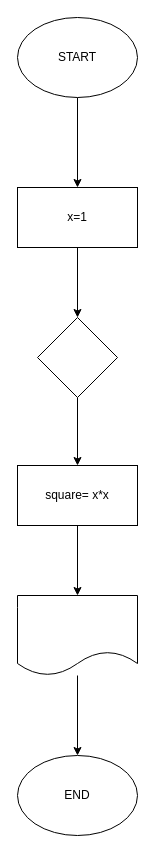
The diagram is 155 pixels wide and 853 high, and some of its shapes have lost their labels. Here are the shapes that lost their labels. From the top down, the centre of each, then its label:
At (x=77, y=357): "x<=10".
At (x=77, y=635): "square".
